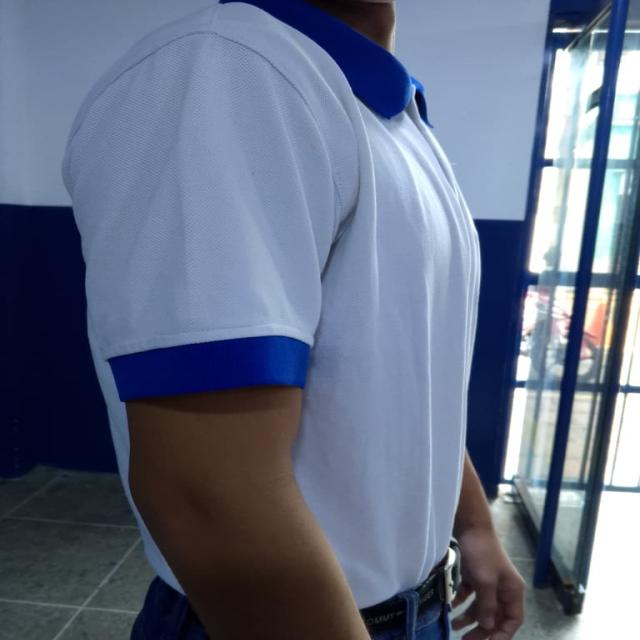uniforme_superior: (60, 0, 482, 610)
